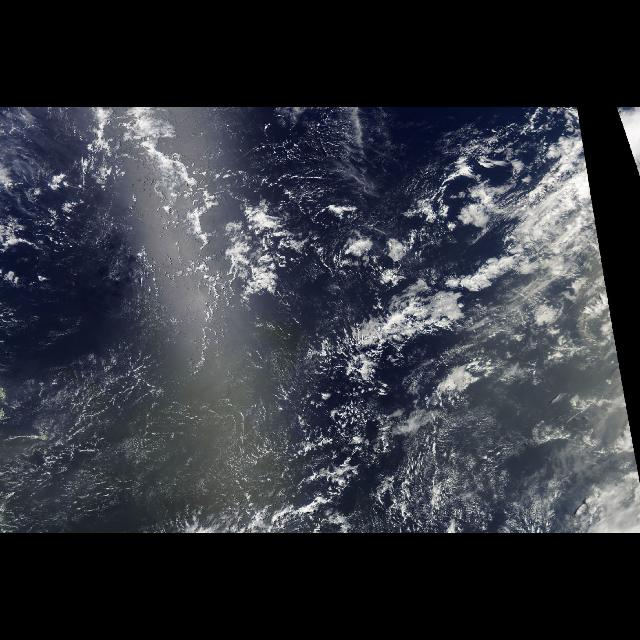Fish: (304, 314, 486, 422)
Gravel: (2, 284, 376, 534), (233, 115, 354, 171)
Sugar: (166, 390, 280, 504)
